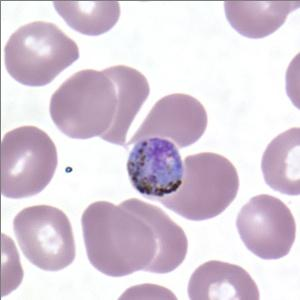Infected: (127, 136, 183, 196)
Uninfected: (82, 201, 159, 277), (4, 20, 80, 87), (123, 198, 186, 275), (167, 152, 239, 219), (52, 70, 119, 139), (0, 126, 58, 198), (98, 65, 150, 145), (131, 92, 206, 147), (14, 206, 75, 272), (236, 194, 295, 261), (186, 260, 259, 300), (49, 0, 122, 36), (261, 125, 300, 192), (223, 0, 287, 40)
